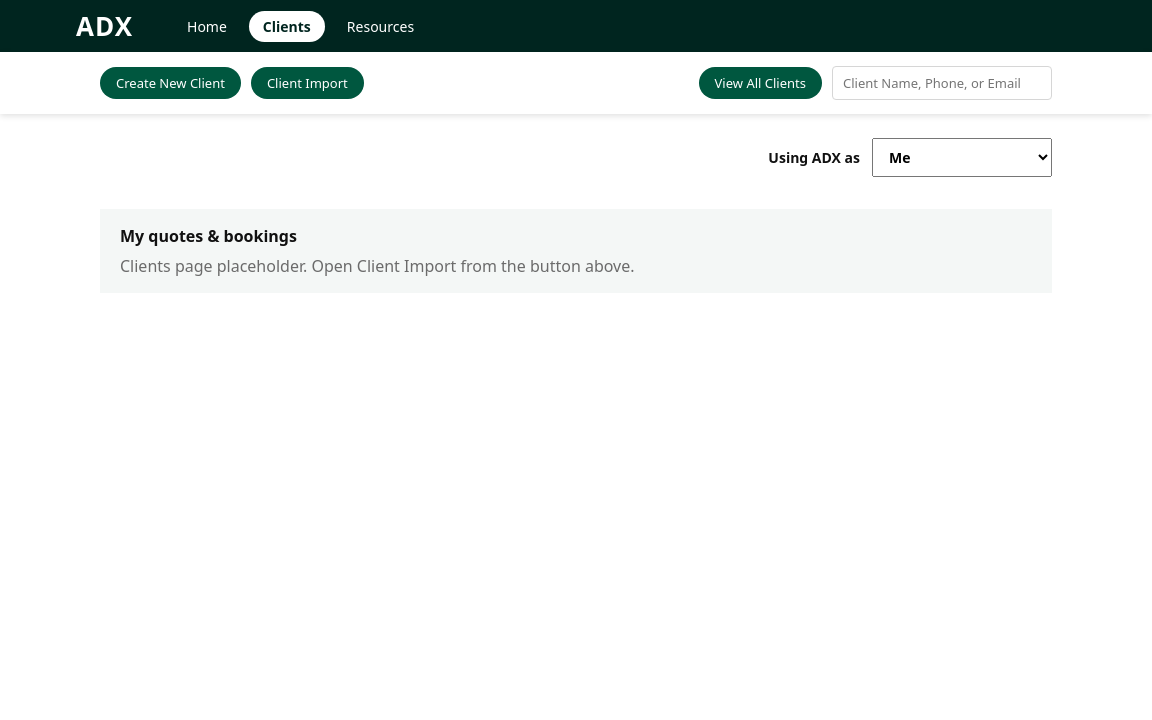
choosing an Advisor › says when no advisors match
Click the button "Client Import": (307, 83) [251,67,364,99]
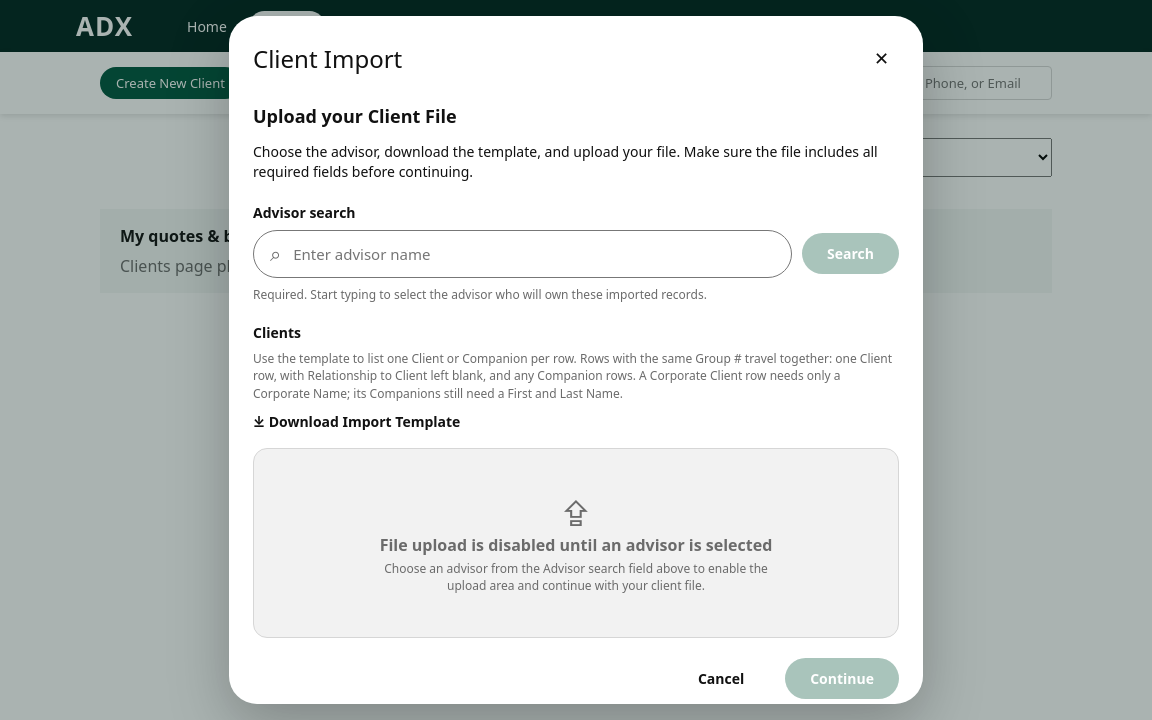
In the dropdown labelled "Advisor search": (535, 254) [291,243,779,265], type "zz"
Wait 300 ms
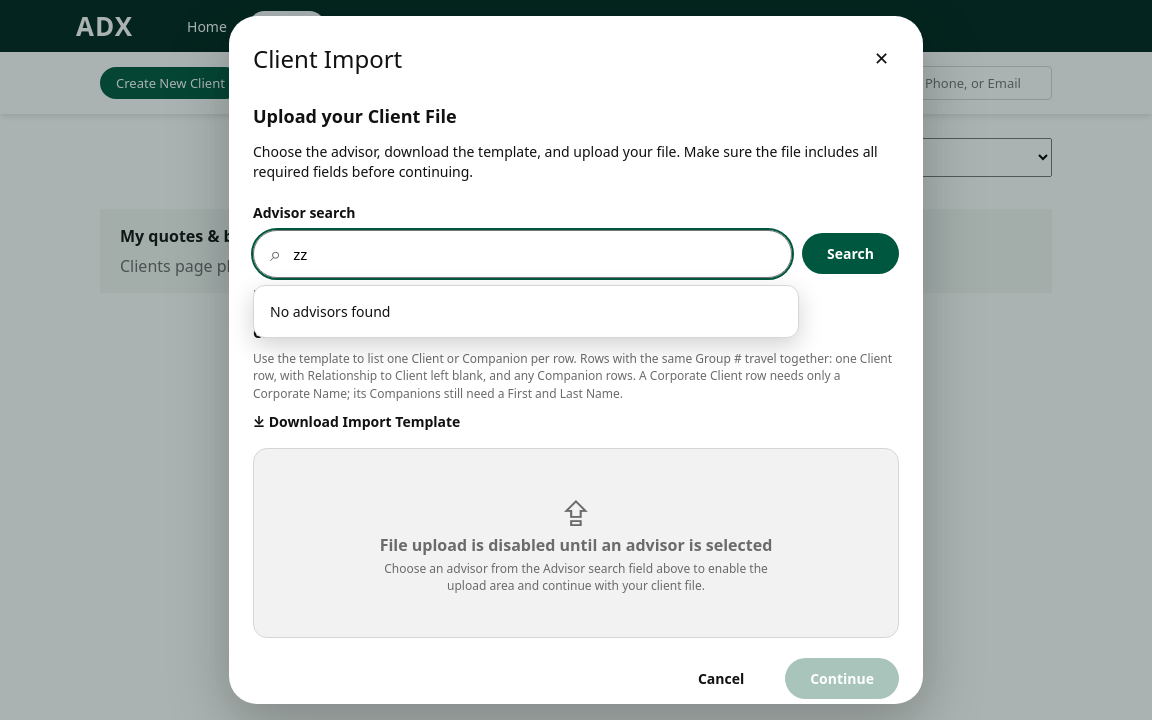
Expected: the text "No advisors found" is shown, [270,302,390,321]
